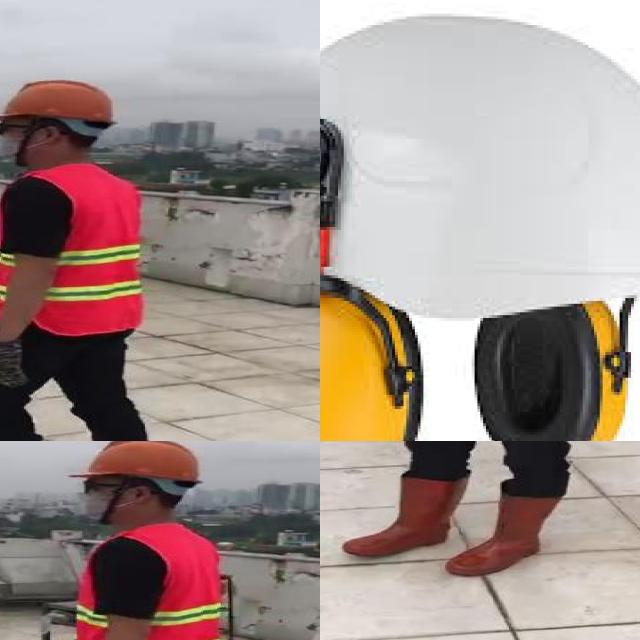Ear-protection: (320, 284, 423, 441)
boots: (344, 475, 466, 556), (447, 494, 559, 577)
face_mask: (67, 475, 136, 523), (0, 121, 38, 168)
hand_glove: (0, 342, 29, 387)
head_helmet: (320, 8, 640, 321), (0, 80, 122, 126), (70, 441, 203, 483)
person: (0, 74, 171, 441), (5, 441, 281, 640), (331, 441, 640, 580)
vest: (0, 168, 147, 335), (60, 526, 227, 640)
